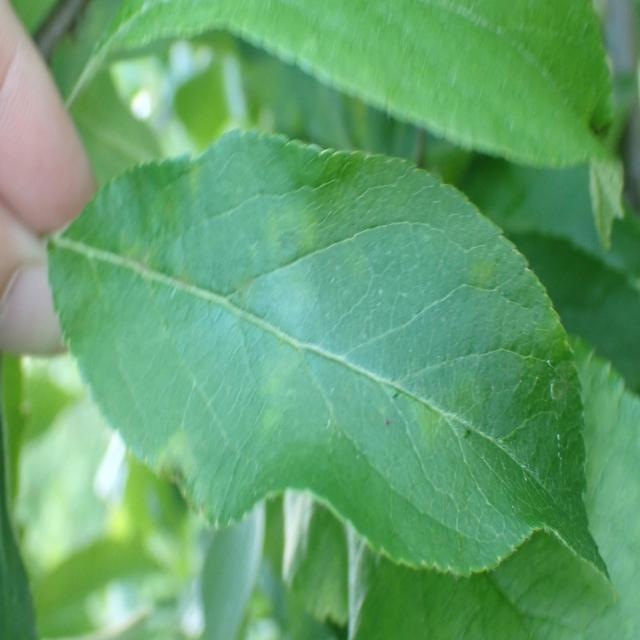scab: (82, 162, 566, 542)
